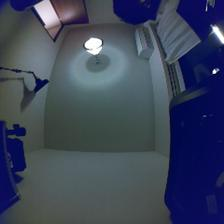car: (93, 81, 142, 122)
